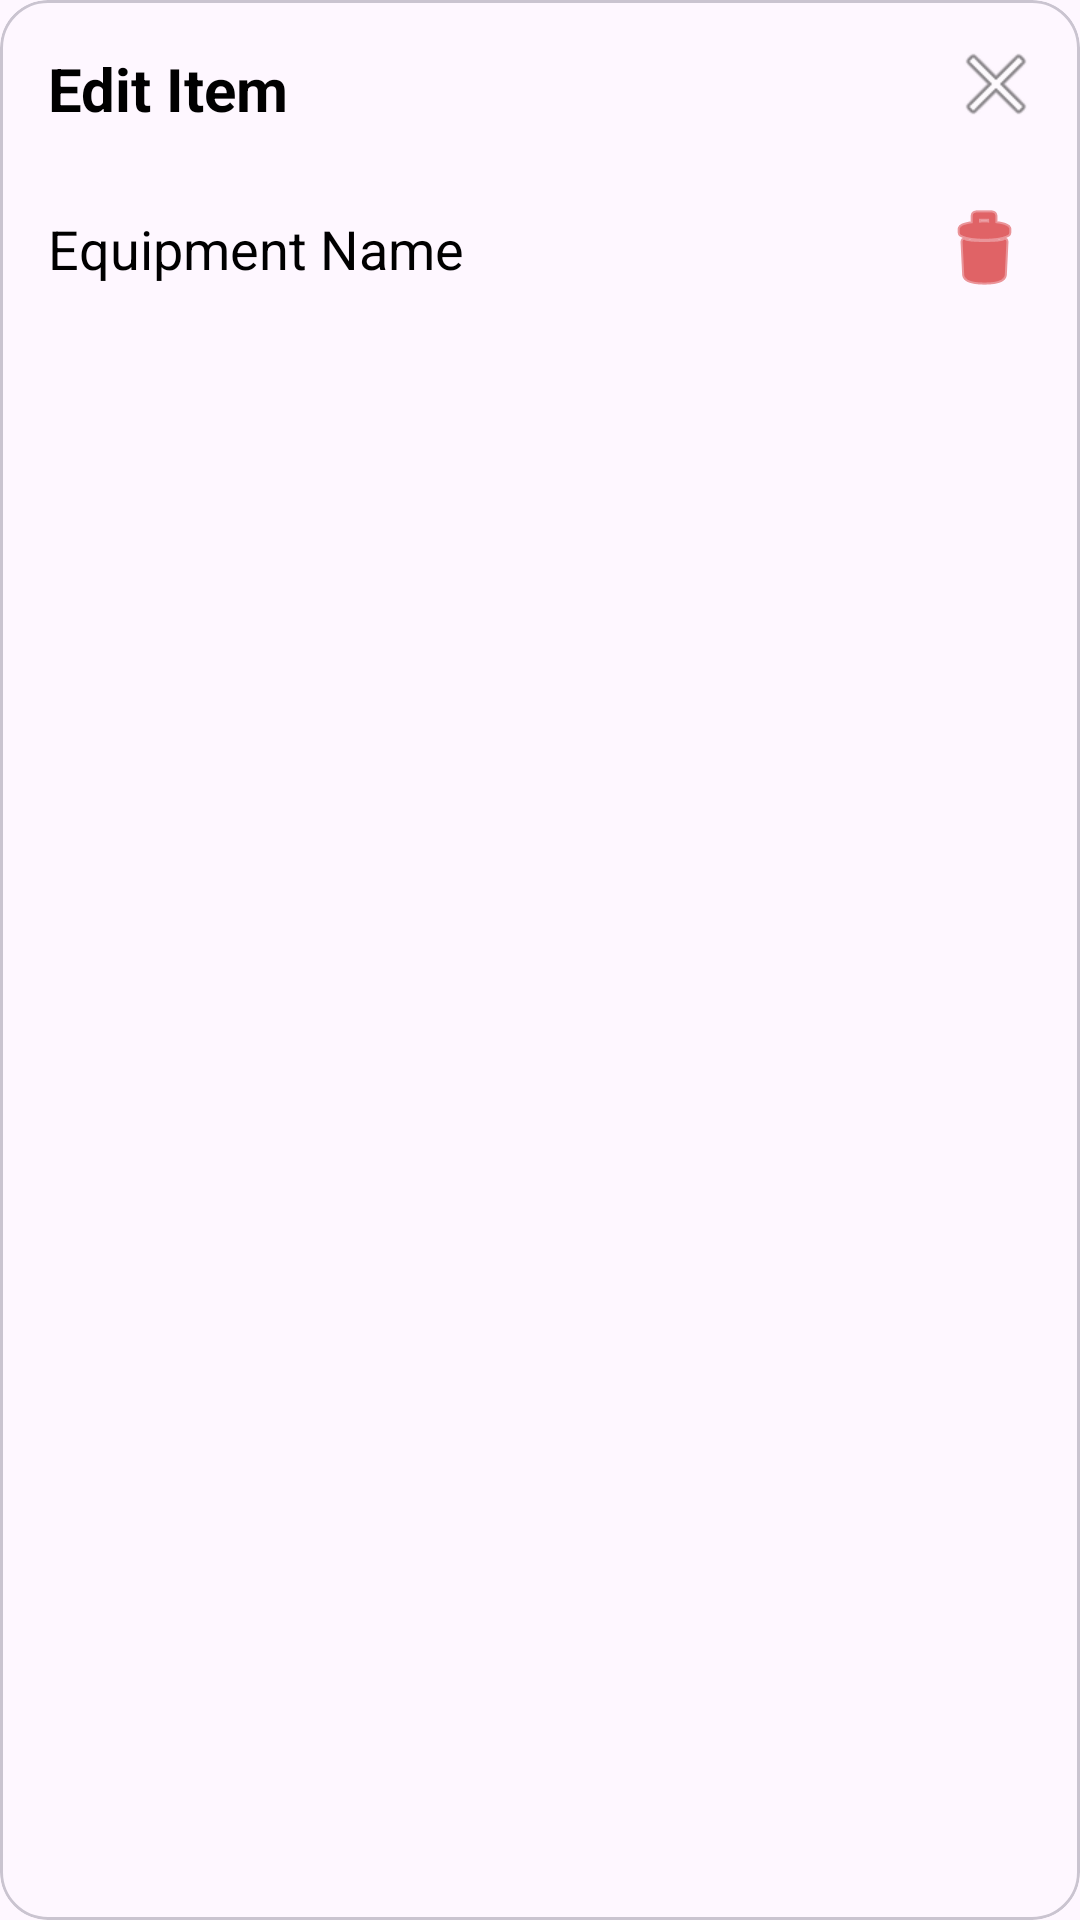

Icons on this 1080 × 1920 Android screen, each with the point to tap as [x,y]:
close clear cancel: [996,84]
delete: [984,247]
